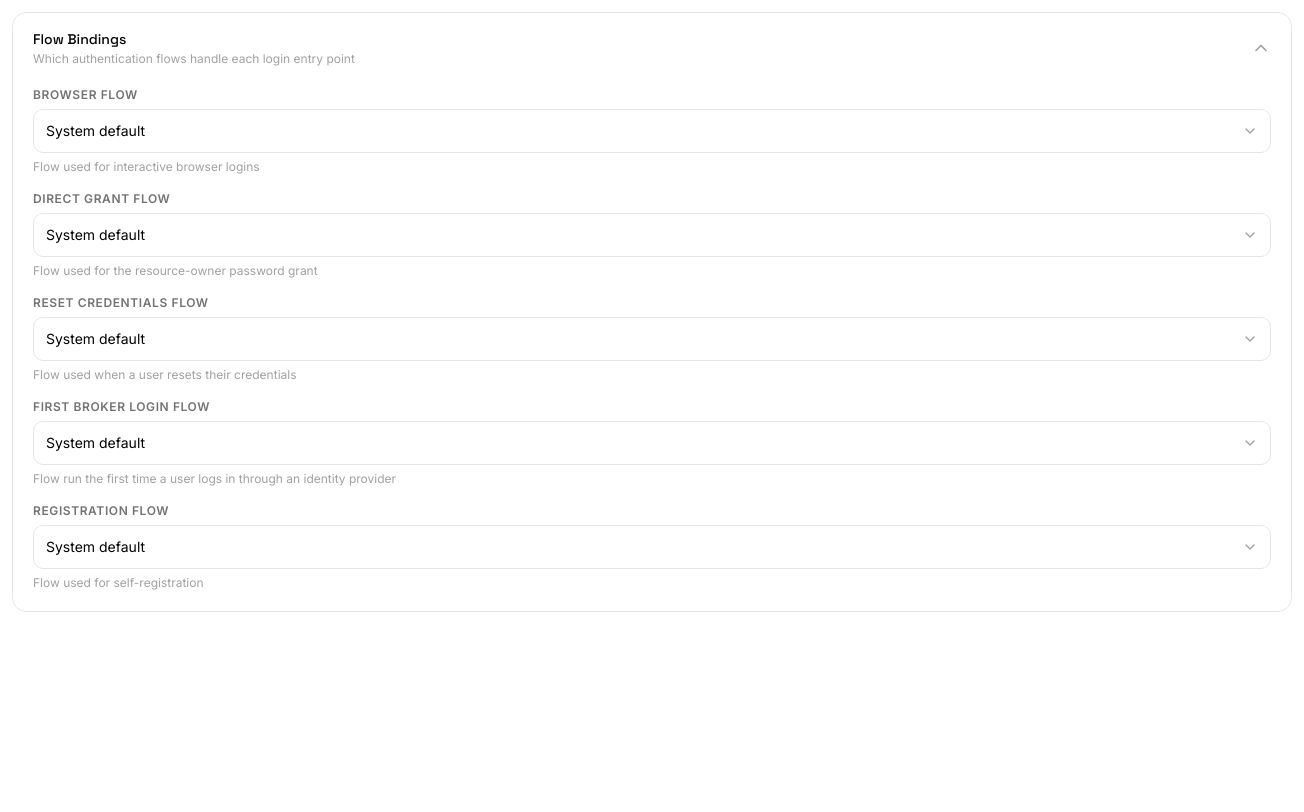
Test case: FlowBindingsSection › offers top-level flows plus a system-default empty option
The width and height of the screenshot is (1304, 812).
Click the button named "Browser Flow" at (96, 130), box [33,109,1271,153]
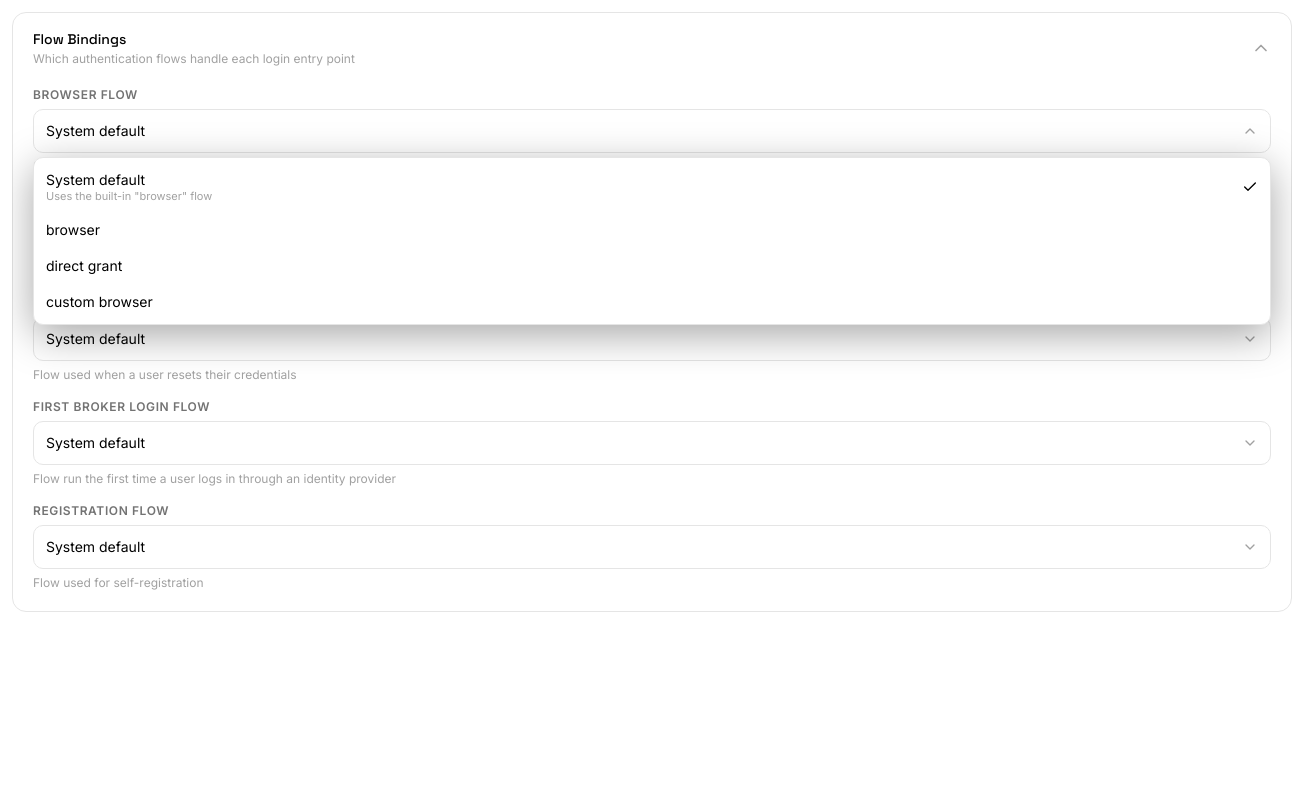
Now the option "System default Uses the built-in \"browser\" flow" is shown, box [34,162,1270,212]
Now the option "custom browser" is shown, box [46,293,153,310]
